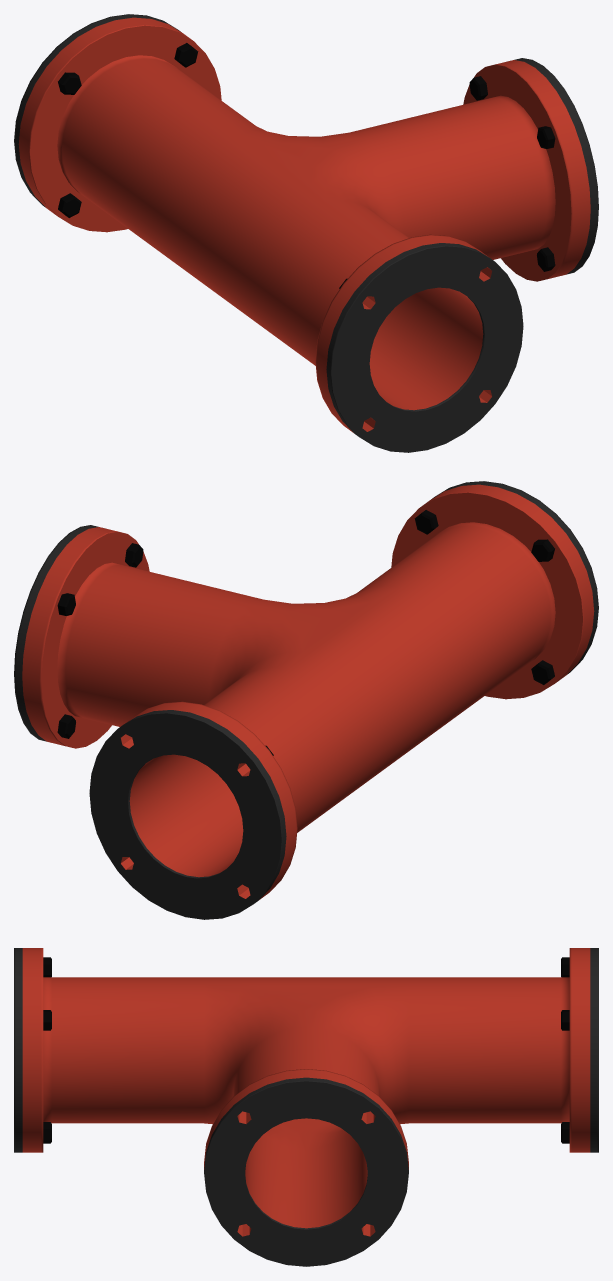
File: TriPipe.fbx
3 views of the same model, one above another, from view 1: azimuth 30°, elevation 25°; view 2: azimuth 150°, elevation 25°; view 3: azimuth 270°, elevation 25° (orthographic). The views are drawn at different scales.
Parts seen in each view (by area): view 1: Tri_Pipe; view 2: Tri_Pipe; view 3: Tri_Pipe.
Part boxes in pixels (left/top/right/bottom): Tri_Pipe: left=14, top=14, right=598, bottom=452; Tri_Pipe: left=14, top=481, right=598, bottom=919; Tri_Pipe: left=14, top=948, right=598, bottom=1266.
Bounding box in the file's own units: 27 × 14 × 40.
